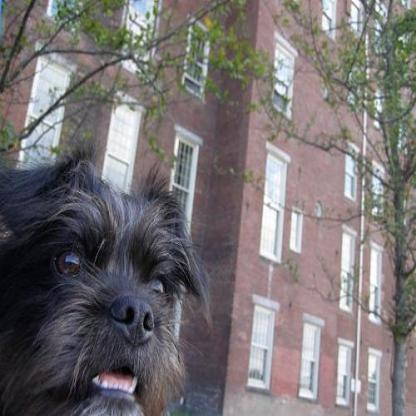affenpinscher: (0, 130, 219, 414)
